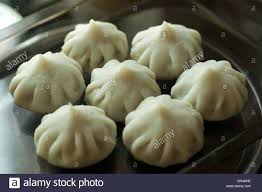modak: (114, 83, 218, 168), (166, 55, 256, 122), (32, 102, 121, 168), (12, 52, 91, 113), (85, 59, 168, 117), (132, 19, 206, 79), (60, 18, 135, 72)
